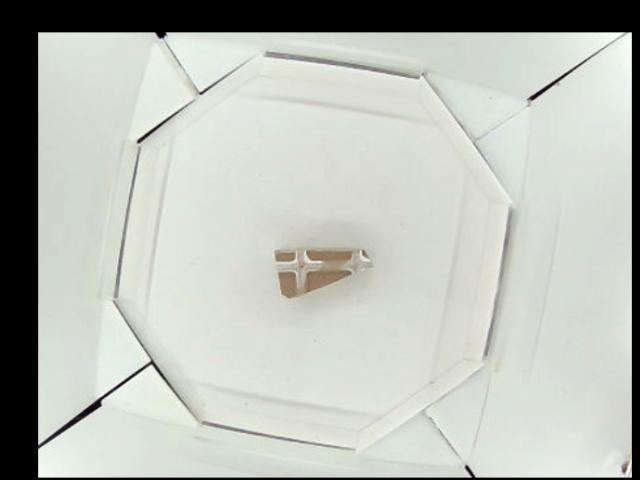China: (271, 246, 373, 298)
